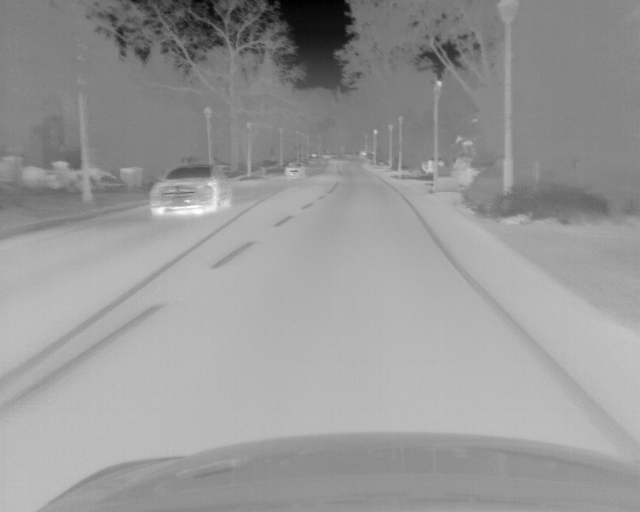car: (150, 164, 233, 217), (282, 162, 307, 182)
